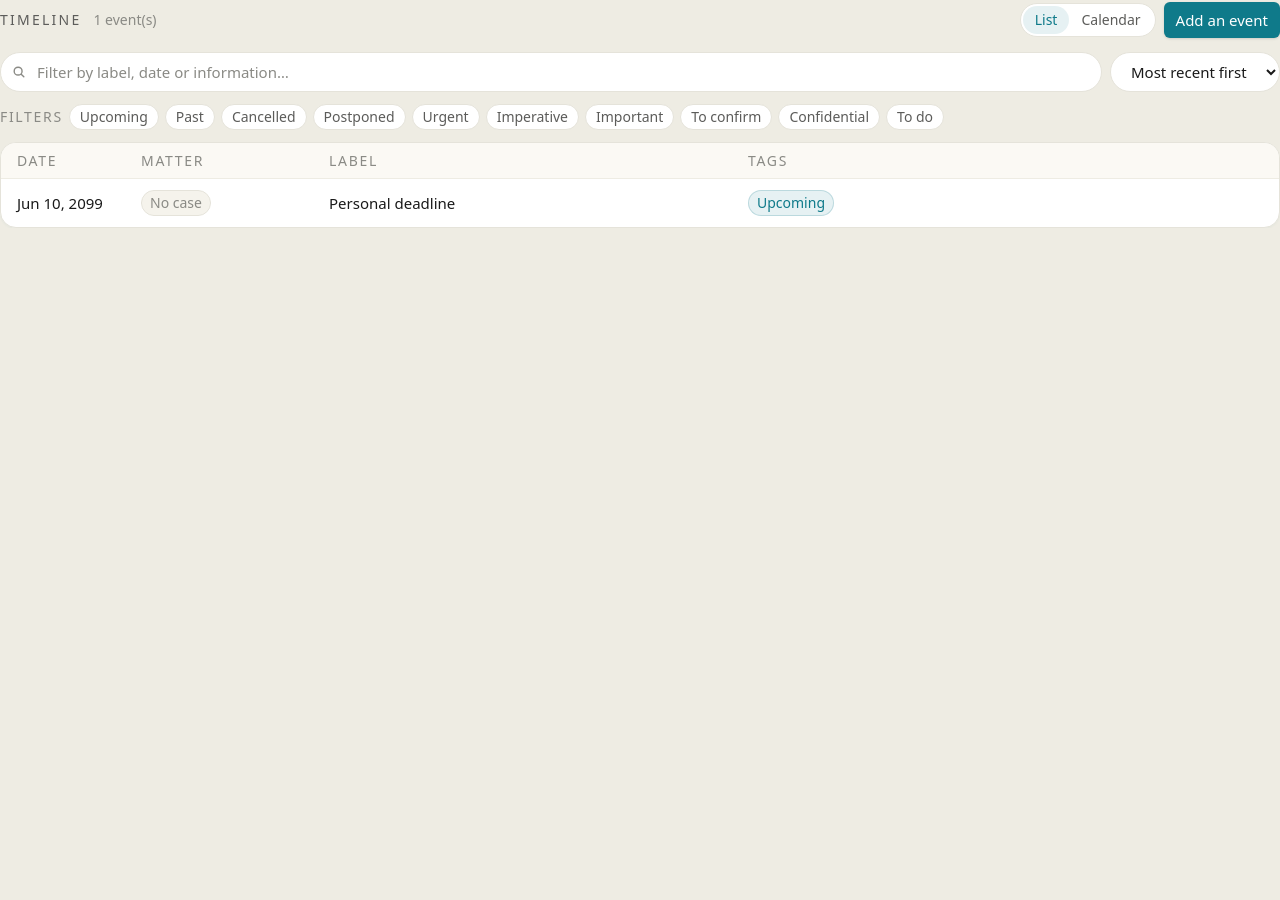
Scenario: HomeChronologyPanel › renders a general event with the "No case" badge and opens the editor (not the dossier) on click
This screenshot has width=1280, height=900.
expect the text "No case" is shown: met, box [141,190,211,216]
What coordinates should you click on to do the following:
click the button "Personal deadline"
I would click on:
 (392, 203)
Its box is [329,191,736,215].
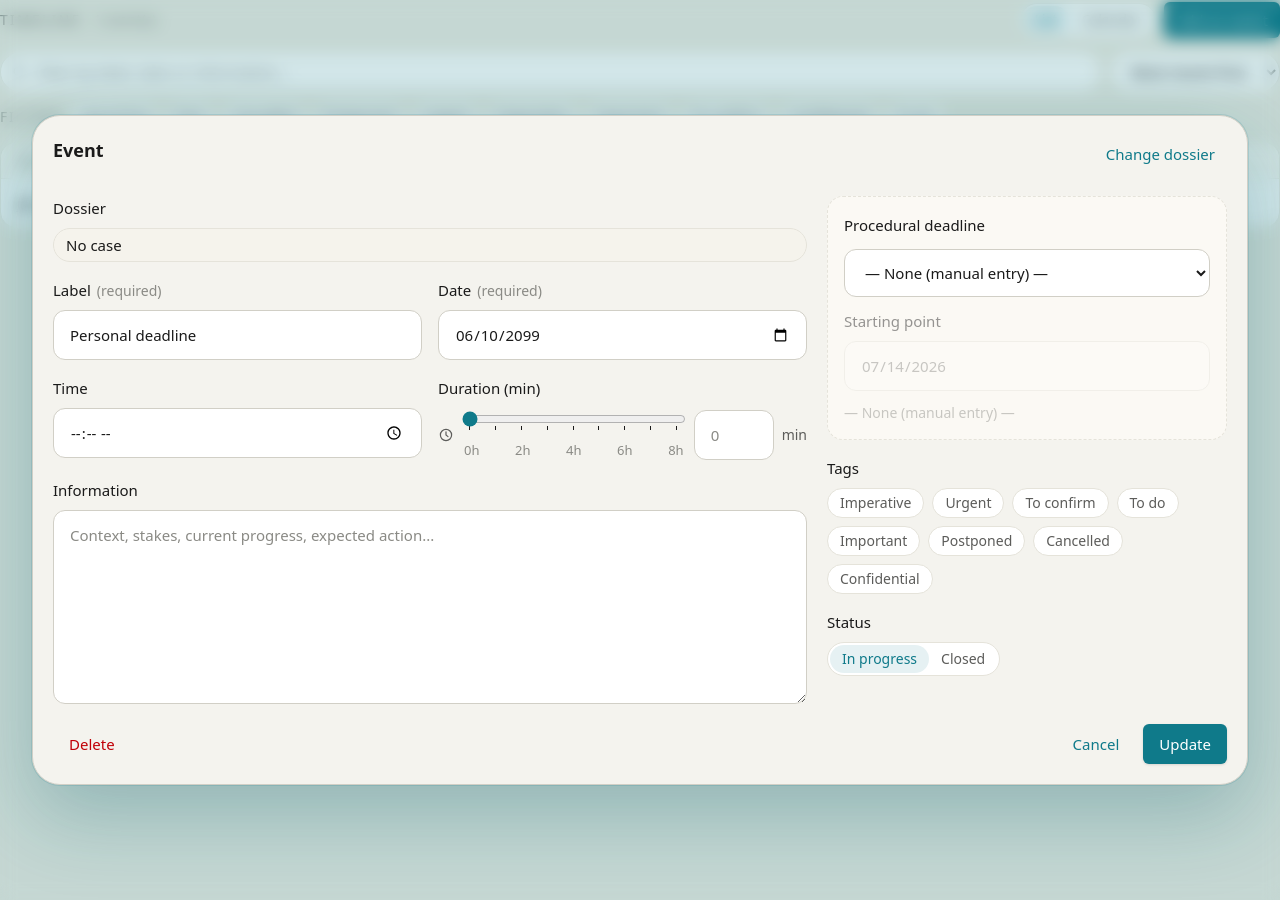
expect the field labelled "Label (required)" is shown: met, box [53,310,422,360]
